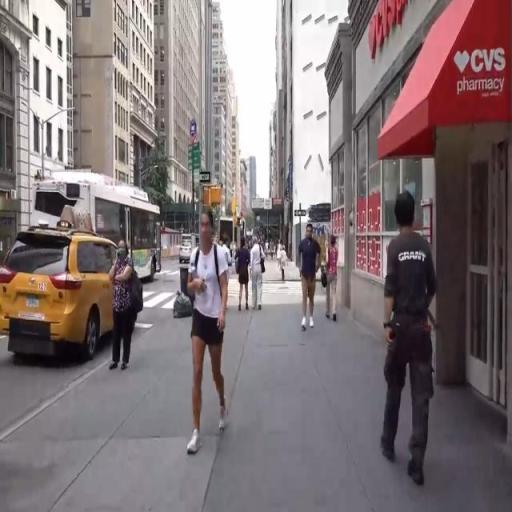person: (374, 194, 447, 460), (188, 208, 236, 459), (114, 243, 140, 361), (299, 224, 320, 329), (327, 235, 344, 325), (253, 241, 266, 320), (239, 234, 250, 299), (281, 249, 291, 288), (277, 237, 284, 267), (267, 238, 273, 264), (272, 239, 276, 262)
